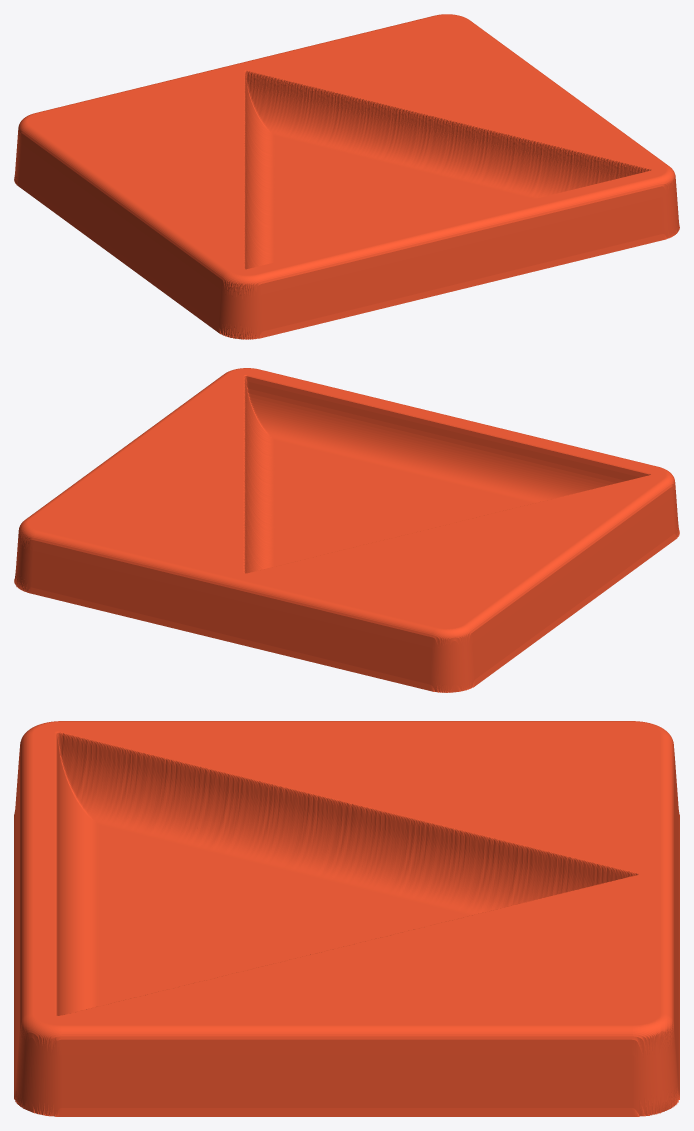
File: mold.glb
The picture shows the model from 3 angles, top to bottom: view 1: azimuth 30°, elevation 25°; view 2: azimuth 150°, elevation 25°; view 3: azimuth 270°, elevation 25°; orthographic projection. The views are drawn at different scales.
Visible parts, largest first — view 1: geometry_0; view 2: geometry_0; view 3: geometry_0.
Part boxes in pixels (box(x1,y1,x2,y2)): geometry_0: box(14, 14, 679, 339); geometry_0: box(14, 368, 679, 692); geometry_0: box(14, 721, 679, 1116).
Size of the model in its own units: 0.1435 by 0.0175 by 0.1265.
